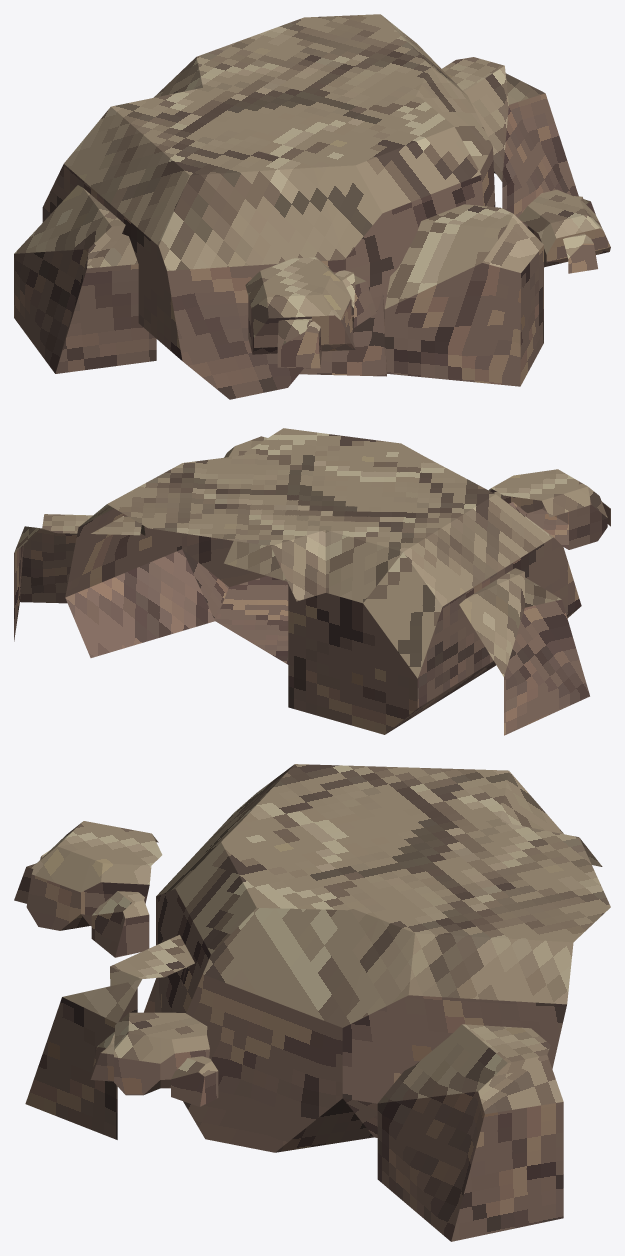
3 views of the same model, one above another, from view 1: azimuth 30°, elevation 25°; view 2: azimuth 150°, elevation 25°; view 3: azimuth 270°, elevation 25° (orthographic). The views are drawn at different scales.
Visible parts, largest first — view 1: S_M1Surface_MR; view 2: S_M1Surface_MR; view 3: S_M1Surface_MR.
Boxes of the visible parts, left/top/right/bottom form: S_M1Surface_MR: left=14, top=14, right=610, bottom=399; S_M1Surface_MR: left=14, top=428, right=610, bottom=735; S_M1Surface_MR: left=14, top=764, right=610, bottom=1241.
Bounding box in the file's own units: 161 × 48.6 × 122.
2 materials, 2 textured.
